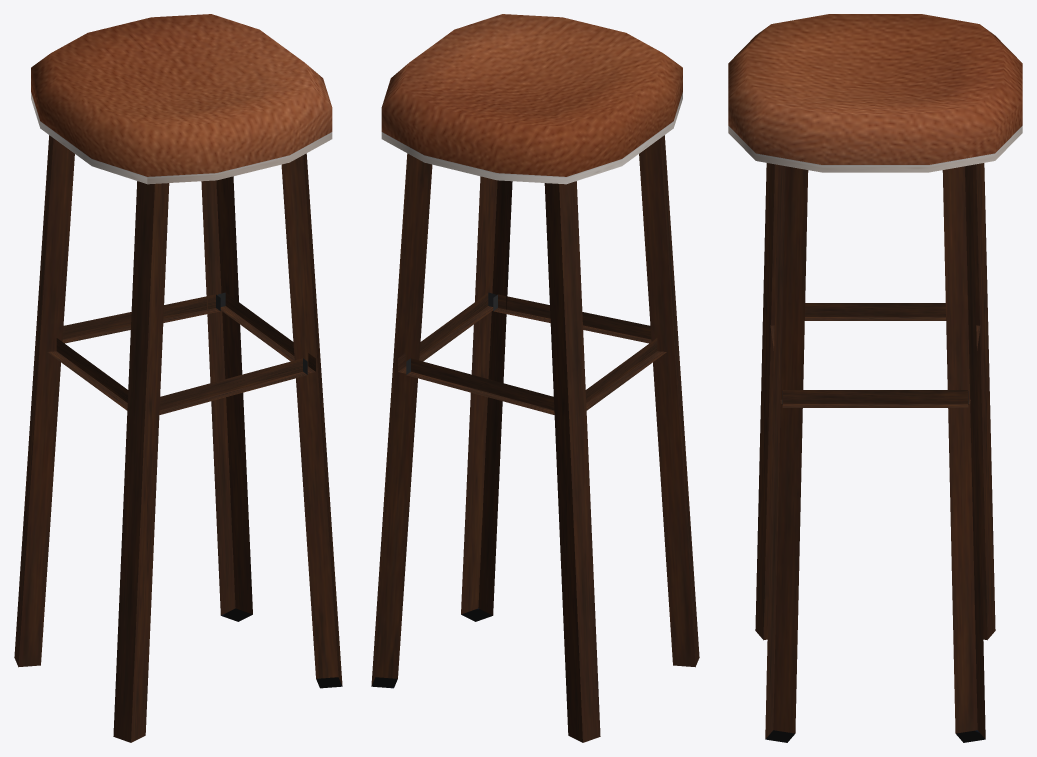
The model's file is stool.fbx.
3 renders of one model, left to right at view 1: azimuth 30°, elevation 25°; view 2: azimuth 150°, elevation 25°; view 3: azimuth 270°, elevation 25°, orthographic. The views are drawn at different scales.
Visible parts, largest first — view 1: barstool; view 2: barstool; view 3: barstool.
Boxes of the visible parts, bbox=[...] form: barstool: bbox=[14, 14, 342, 742]; barstool: bbox=[371, 14, 699, 742]; barstool: bbox=[728, 14, 1022, 742].
Size of the model in its own units: 35.38 by 88.12 by 37.89.
